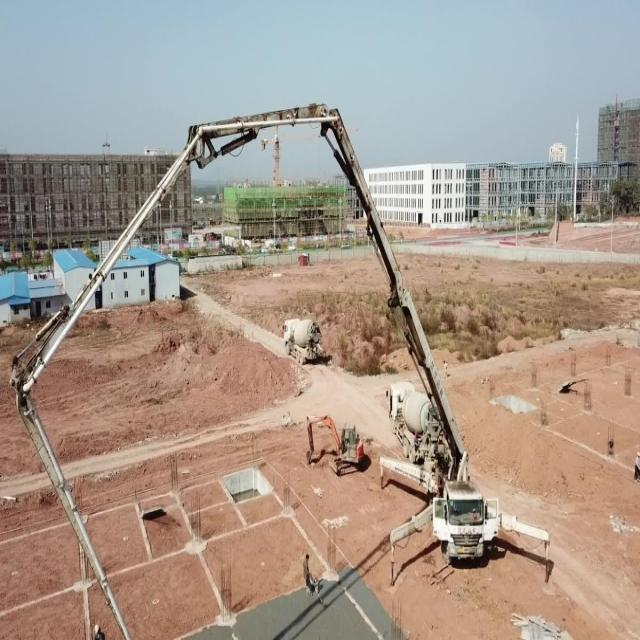excavator: (301, 407, 374, 479)
truck: (1, 93, 556, 640)
